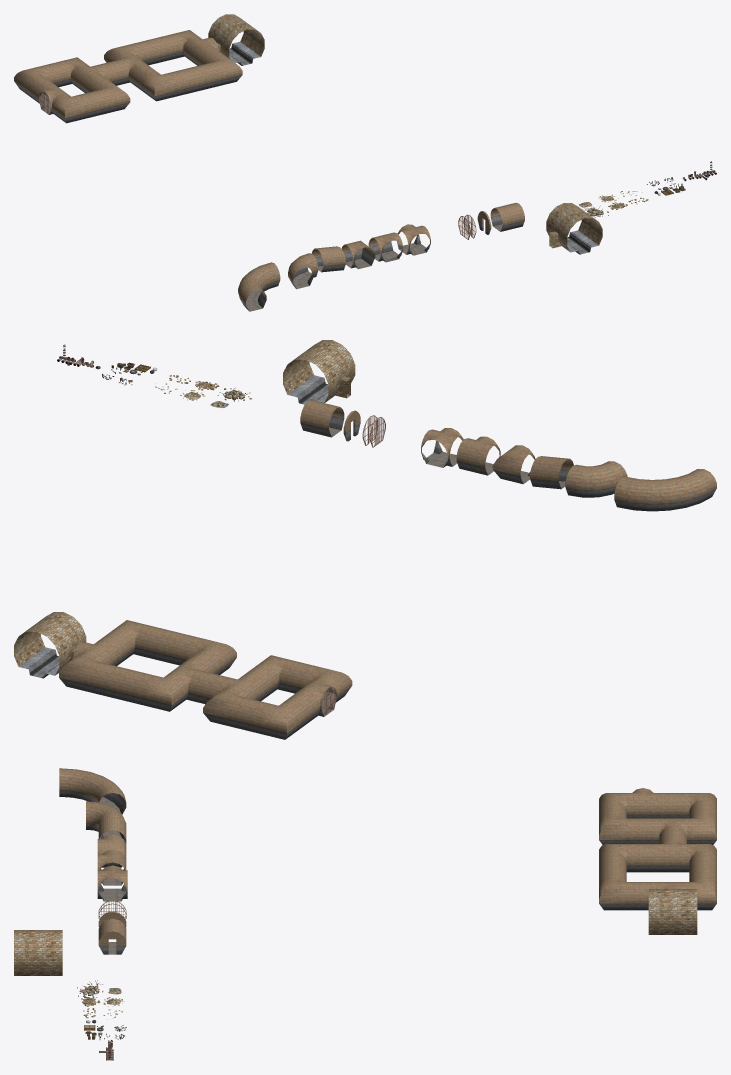
The model's file is level1.gltf.
3 views of the same model, one above another, from view 1: azimuth 30°, elevation 25°; view 2: azimuth 150°, elevation 25°; view 3: azimuth 270°, elevation 25° (orthographic). The views are drawn at different scales.
Visible parts, largest first — view 1: Serwers_007, Serwers_007_brick_modern_01_0.001, SerwersP1_007, SerwersP1_006, SerwersP1, SerwersP1_004, SerwersP1_005, SerwersP1_003, SerwersP1_002, SerwersP1_004_brick_modern_0.003, SerwersP1_004_brick_modern_0.008, Serwers_007_concrete_base_0.001 (+2 smaller); view 2: Serwers_007, SerwersP1_007, Serwers_007_brick_modern_01_0.001, SerwersP1_006, SerwersP1, SerwersP1_003, SerwersP1_005, SerwersP1_002, SerwersP1_004_brick_modern_0.009, SerwersP1_004_brick_modern_0.004, SerwersP1_004, Serwers_007_concrete_base_0.001 (+11 smaller); view 3: Serwers_007_brick_modern_01_0.001, Serwers_007, SerwersP1_007, SerwersP1, SerwersP1_002, SerwersP1_003_brick_modern_0.003, SerwersP1_003_brick_modern_0.005, SerwersP1_004_brick_modern_0.001, SerwersP1_006, SerwersP1_004_brick_modern_0.005, SerwersP1_004_brick_modern_0.006, SerwersP1_001_brick_modern_0.005 (+7 smaller).
Part boxes in pixels (x1,y1,x2,y2): Serwers_007: (546, 203, 602, 254); Serwers_007_brick_modern_01_0.001: (208, 14, 264, 59); SerwersP1_007: (238, 262, 280, 311); SerwersP1_006: (288, 253, 318, 289); SerwersP1: (490, 203, 524, 231); SerwersP1_004: (341, 240, 375, 269); SerwersP1_005: (311, 246, 345, 272); SerwersP1_003: (368, 232, 403, 262); SerwersP1_002: (397, 224, 430, 255); SerwersP1_004_brick_modern_0.003: (142, 72, 176, 95); SerwersP1_004_brick_modern_0.008: (52, 94, 86, 117); Serwers_007_concrete_base_0.001: (229, 41, 260, 65); Serwers_007: (283, 340, 355, 404); SerwersP1_007: (614, 469, 716, 511); Serwers_007_brick_modern_01_0.001: (14, 612, 86, 675); SerwersP1_006: (565, 461, 627, 497); SerwersP1: (300, 400, 344, 437); SerwersP1_003: (456, 436, 500, 475); SerwersP1_005: (530, 456, 573, 489); SerwersP1_002: (421, 428, 463, 467); SerwersP1_004_brick_modern_0.009: (259, 702, 302, 733); SerwersP1_004_brick_modern_0.004: (144, 674, 187, 704); SerwersP1_004: (493, 445, 535, 484); Serwers_007_concrete_base_0.001: (19, 647, 59, 678); Serwers_007_brick_modern_01_0.001: (648, 889, 697, 934); Serwers_007: (14, 930, 62, 975); SerwersP1_007: (59, 768, 126, 814); SerwersP1: (98, 918, 126, 954); SerwersP1_002: (97, 865, 127, 901); SerwersP1_003_brick_modern_0.003: (658, 839, 687, 865); SerwersP1_003_brick_modern_0.005: (628, 788, 657, 814); SerwersP1_004_brick_modern_0.001: (599, 877, 627, 903); SerwersP1_006: (86, 801, 125, 836); SerwersP1_004_brick_modern_0.005: (688, 813, 716, 839); SerwersP1_004_brick_modern_0.006: (599, 813, 627, 839); SerwersP1_001_brick_modern_0.005: (628, 844, 657, 865).
Bounding box in the file's own units: 91.52 × 6.97 × 97.85.
Materials: 93 (93 with a texture image).
